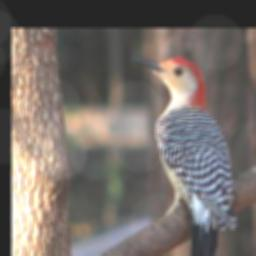Woodpecker: (130, 55, 239, 256)
